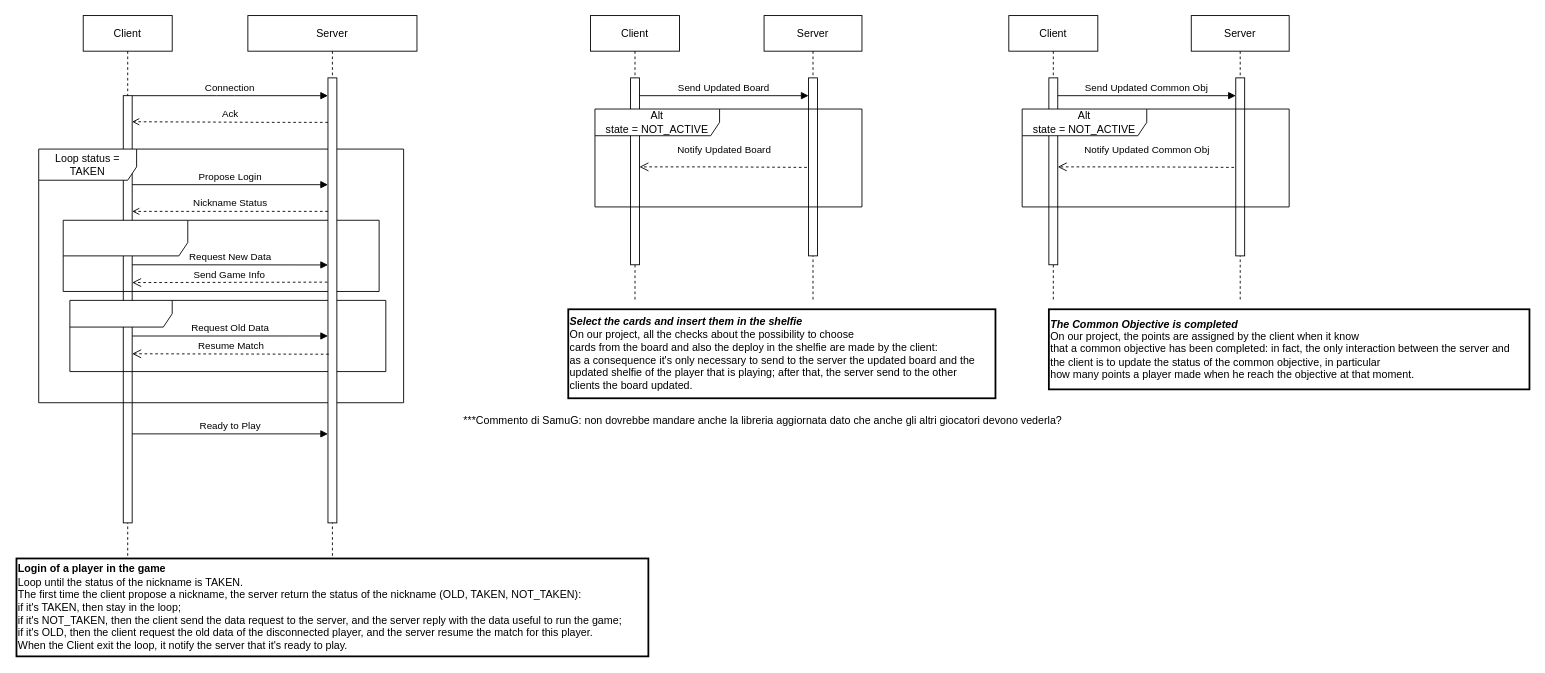
Some shapes in this 1545 by 673 pixel diagram are drawn without their labels. Here are the shapes that lost their labels. From the top down, the centre of each, then its label:
At (x=220, y=255): "Break status = NOT_TAKEN".
At (x=227, y=335): "Break status = OLD".
